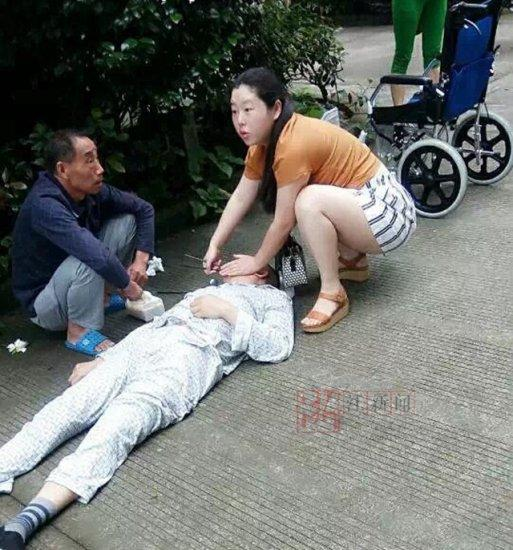bending: (227, 73, 419, 338), (19, 126, 167, 358)
down: (1, 248, 300, 550)
